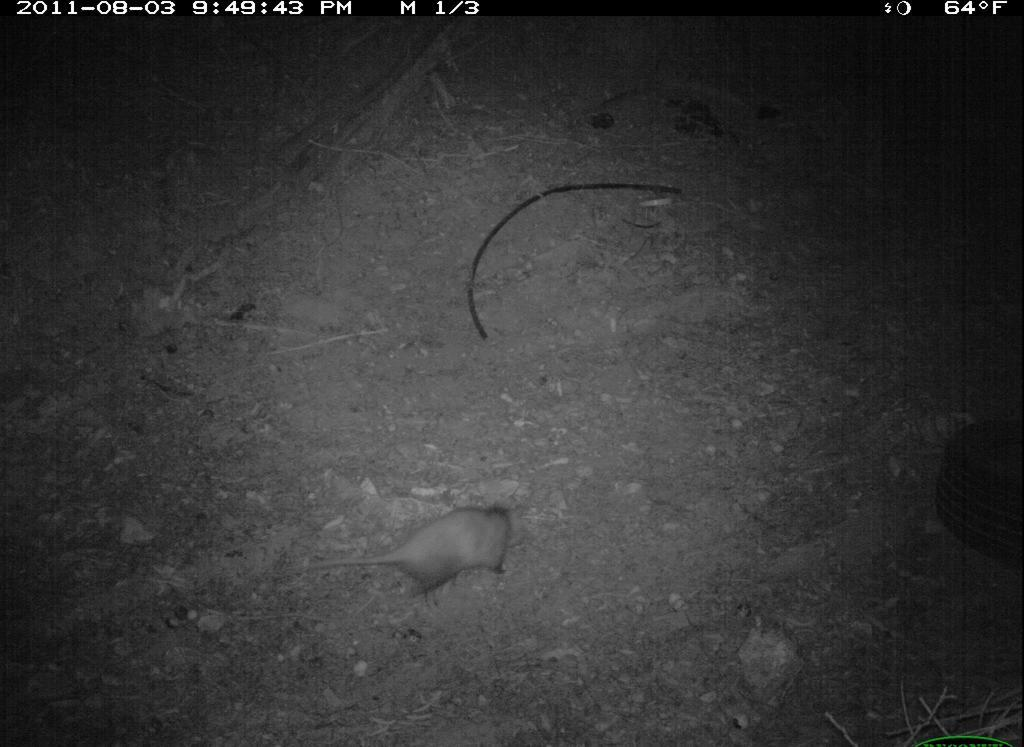opossum: (278, 497, 518, 596)
